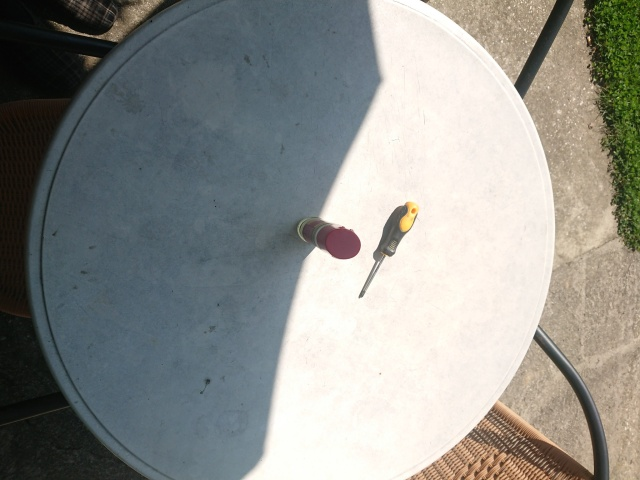Kotanyi Curry Spices Mix 70g: (295, 214, 363, 261)
